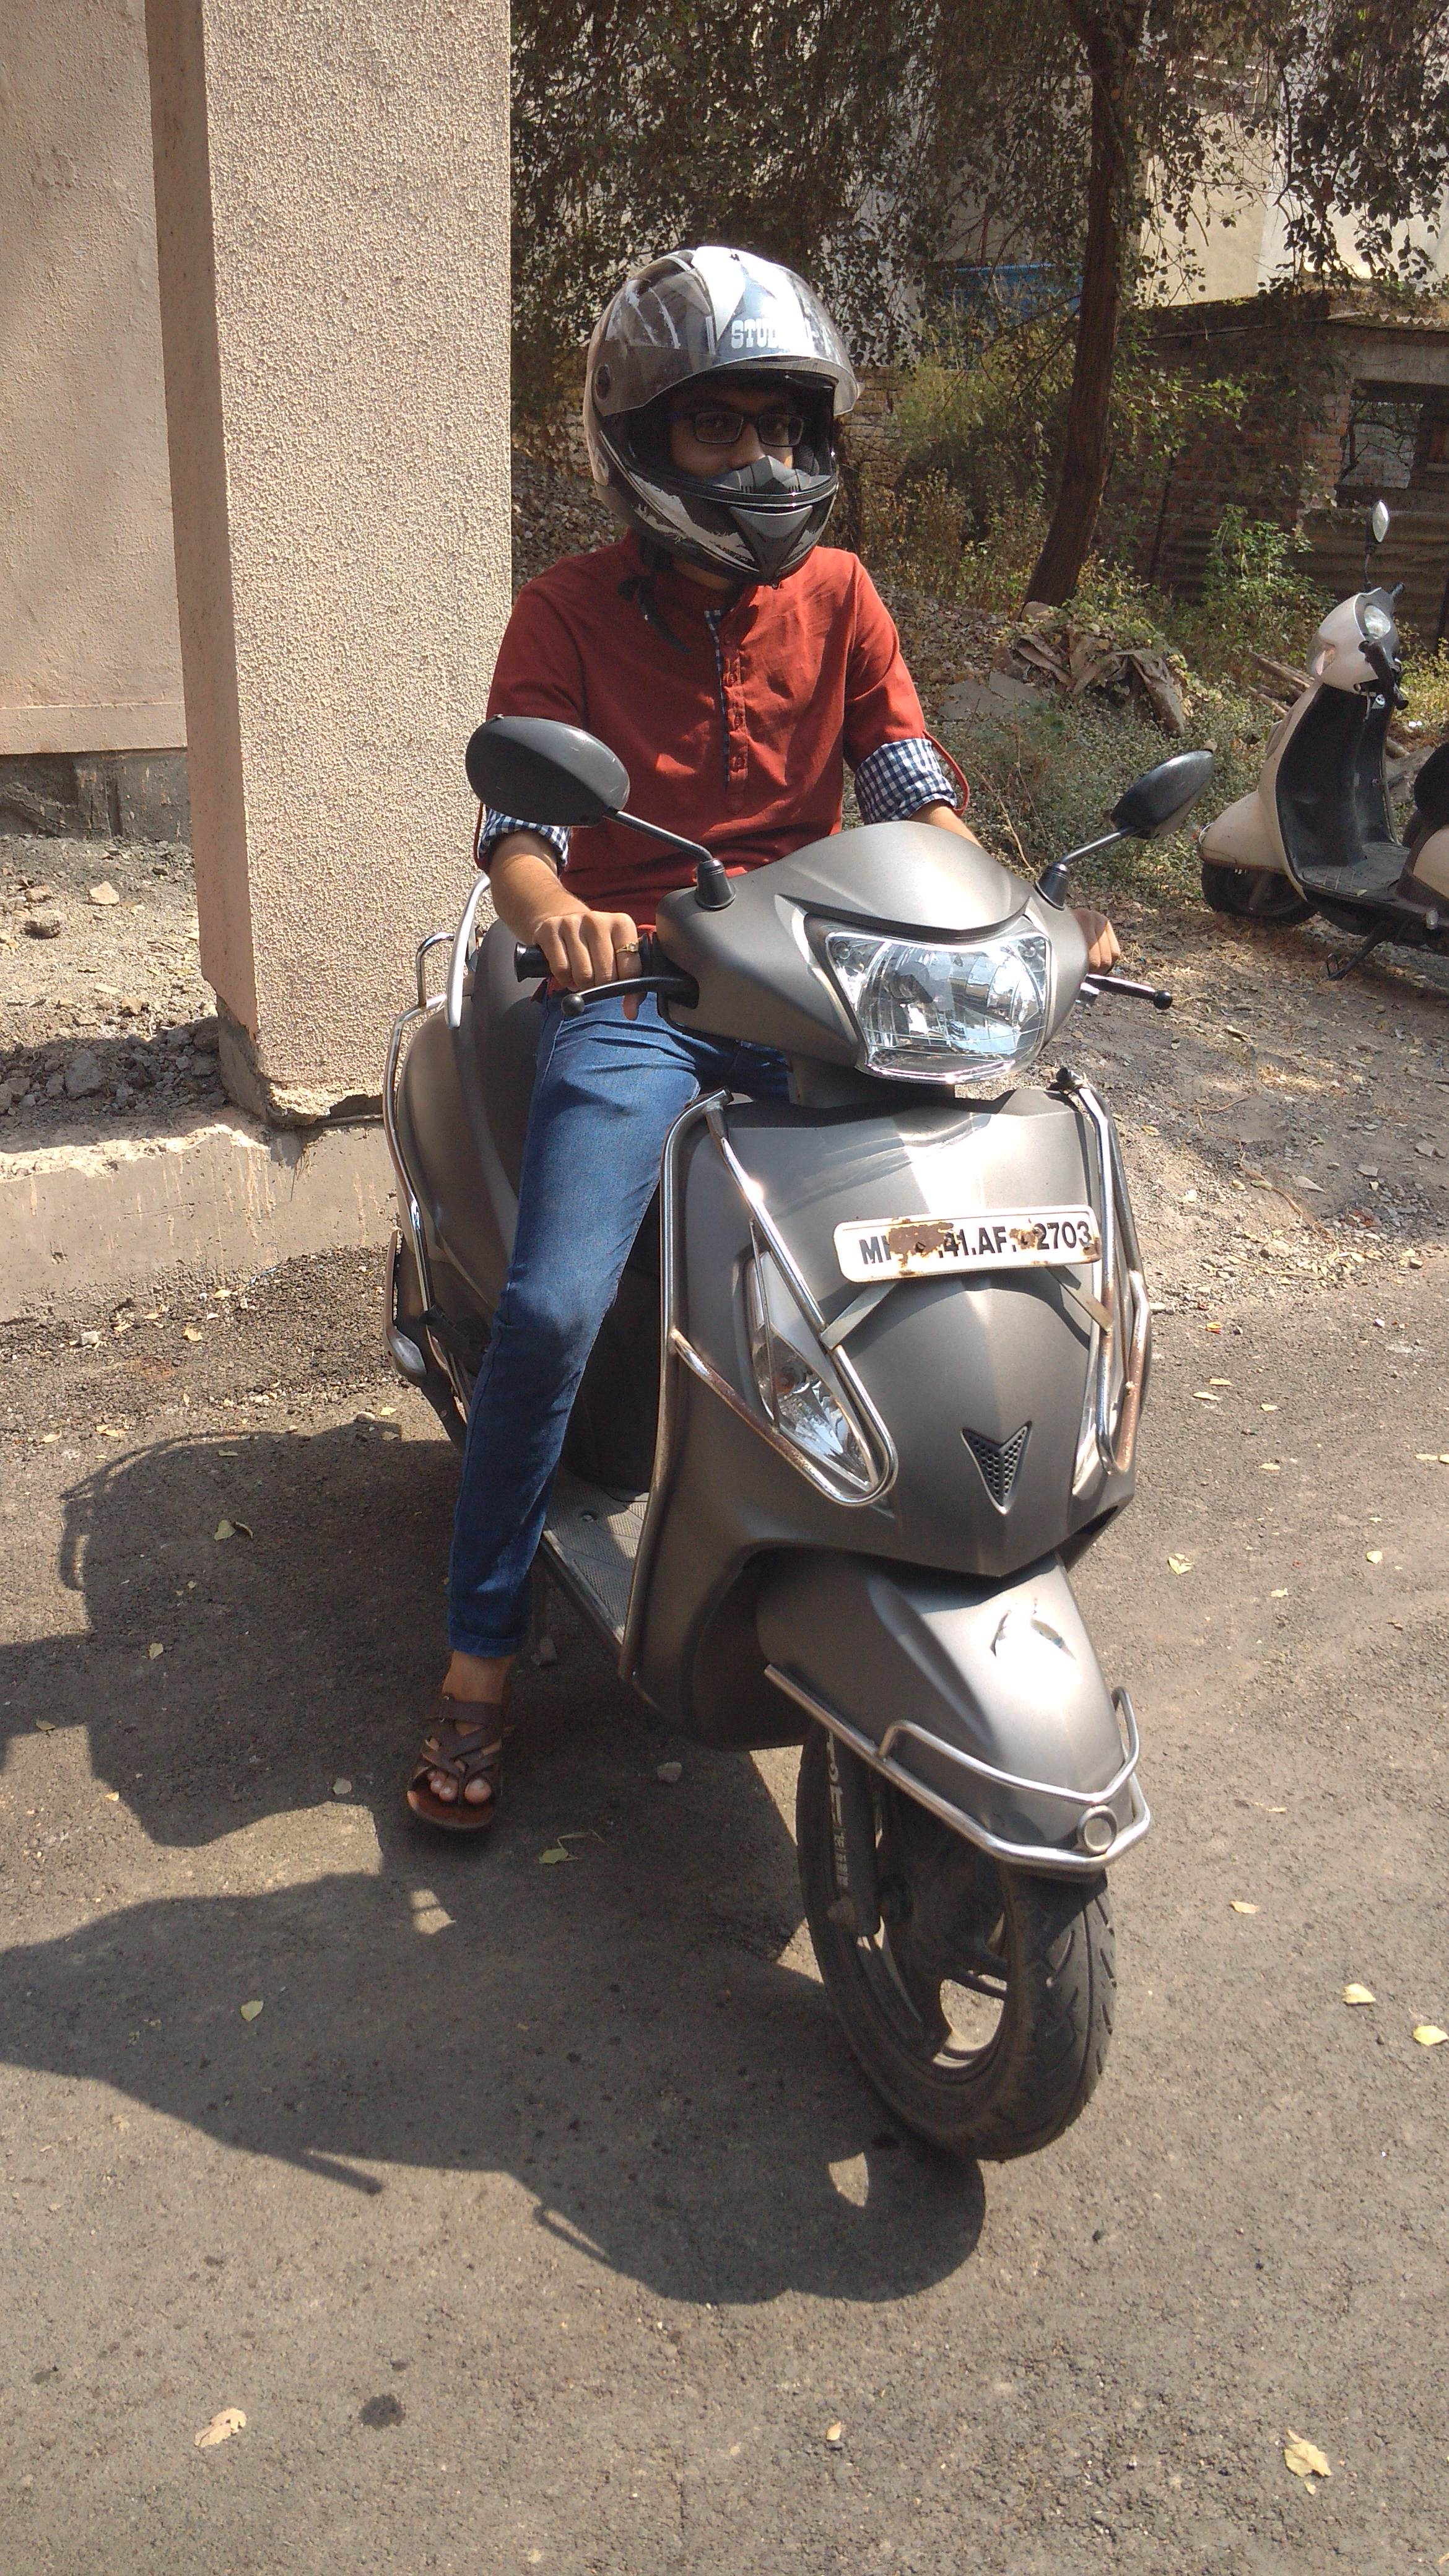helmet: (518, 219, 1088, 1338)
